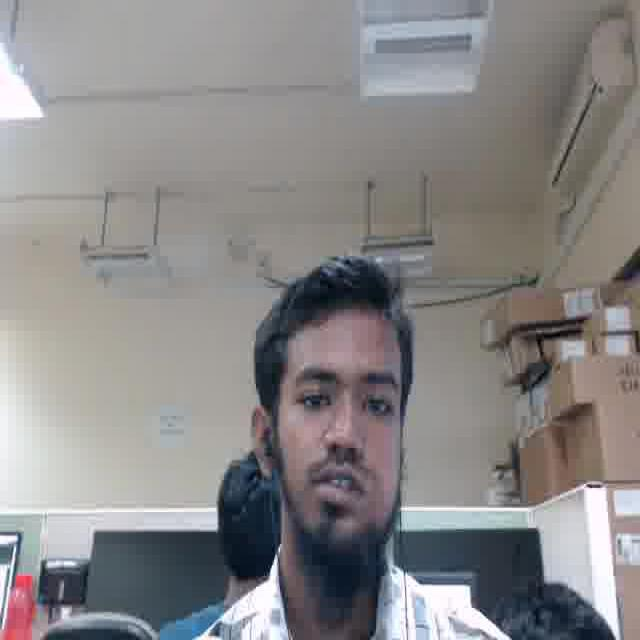Engaged: (276, 312, 406, 539)
